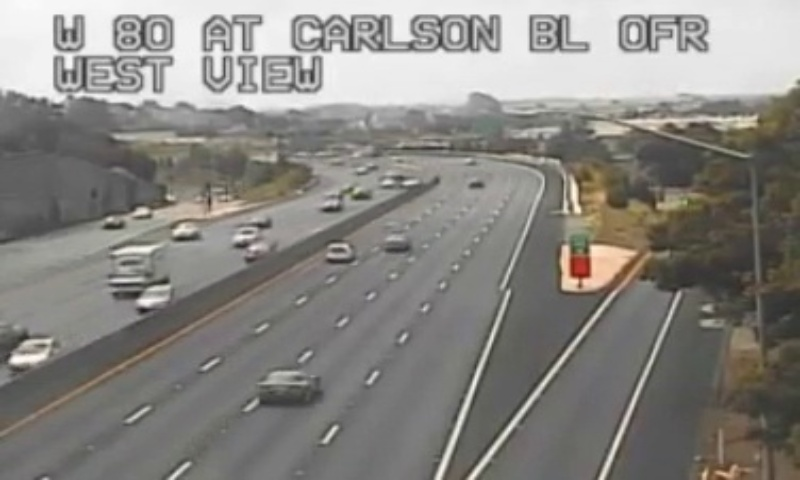car: (255, 369, 317, 402), (325, 243, 355, 263)
